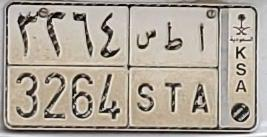2: (43, 11, 66, 119)
3: (16, 11, 41, 118)
4: (99, 12, 121, 119)
6: (71, 11, 94, 120)
A: (191, 21, 209, 114)
S: (136, 29, 158, 113)
T: (164, 21, 183, 112)
